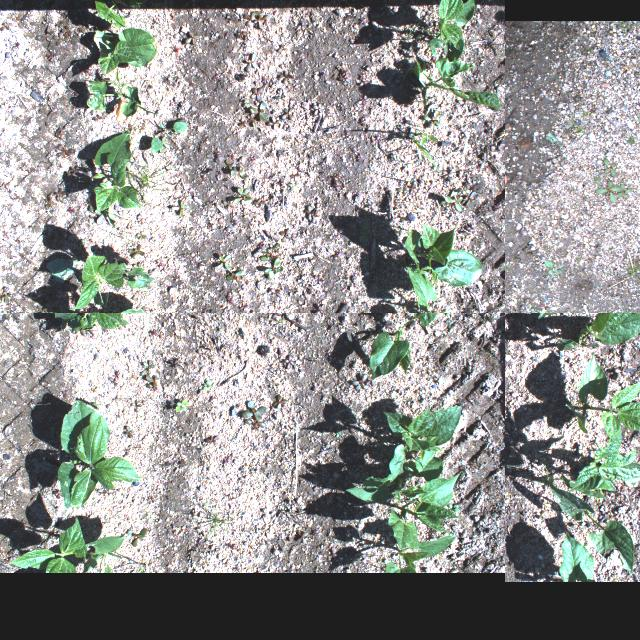crop: (56, 399, 142, 508), (548, 482, 634, 574), (564, 351, 640, 442), (386, 470, 462, 550), (559, 424, 640, 499), (382, 404, 460, 478), (90, 133, 146, 229), (404, 223, 482, 287), (367, 313, 440, 380), (410, 57, 500, 111), (68, 256, 154, 310), (344, 456, 444, 502), (423, 0, 474, 62), (556, 313, 640, 350), (92, 27, 156, 74), (384, 535, 458, 573), (86, 68, 140, 116), (61, 0, 146, 28), (404, 266, 451, 313), (558, 532, 596, 582), (53, 313, 129, 332), (82, 308, 145, 313), (418, 132, 436, 148), (104, 563, 112, 573)
weed: (7, 517, 124, 573), (127, 160, 177, 206), (194, 499, 232, 539), (150, 121, 187, 152), (596, 178, 632, 204), (412, 139, 438, 171), (124, 162, 148, 192), (595, 156, 621, 180), (238, 400, 266, 422), (538, 464, 564, 486), (247, 102, 269, 126), (98, 550, 120, 572), (544, 258, 564, 282), (124, 528, 148, 548), (108, 0, 125, 28), (406, 15, 424, 40), (623, 259, 640, 284), (264, 258, 282, 280), (439, 188, 459, 206), (351, 372, 369, 392), (546, 131, 564, 149), (444, 196, 464, 212), (232, 187, 252, 203), (243, 418, 265, 432), (214, 253, 232, 270), (422, 113, 441, 129), (250, 12, 268, 28), (155, 135, 171, 153), (89, 208, 105, 226), (566, 118, 584, 134), (271, 394, 289, 410), (243, 52, 257, 72), (170, 202, 190, 216), (224, 268, 243, 282), (133, 104, 157, 115), (460, 192, 476, 208), (242, 10, 258, 26), (248, 86, 264, 102), (126, 244, 144, 258), (230, 166, 247, 180), (183, 30, 200, 44), (144, 374, 158, 391), (266, 116, 282, 130), (51, 32, 67, 46), (282, 353, 296, 369), (280, 107, 294, 121), (278, 70, 292, 84), (294, 530, 308, 544), (143, 374, 157, 388), (60, 24, 72, 40), (94, 74, 110, 86), (505, 260, 517, 276), (71, 324, 87, 336), (140, 360, 158, 370), (327, 546, 338, 562), (0, 286, 10, 303), (458, 96, 472, 108), (278, 229, 290, 243), (56, 145, 70, 157), (68, 165, 82, 177), (54, 188, 66, 202), (446, 503, 460, 515), (6, 548, 18, 562), (258, 254, 278, 262), (205, 434, 221, 444), (124, 424, 134, 440), (50, 489, 66, 499), (441, 170, 454, 182), (175, 400, 188, 412), (332, 176, 341, 192), (364, 375, 376, 387), (130, 400, 142, 412), (396, 186, 410, 196), (268, 288, 282, 298), (86, 198, 95, 212), (406, 182, 416, 194), (400, 97, 412, 107), (269, 242, 279, 254), (276, 42, 288, 52), (223, 159, 233, 171), (222, 200, 234, 210), (56, 128, 66, 140), (526, 305, 541, 313), (201, 379, 211, 391), (139, 364, 149, 376), (310, 210, 318, 224), (132, 263, 140, 277), (304, 204, 310, 222), (146, 328, 158, 337), (241, 30, 251, 40), (225, 295, 235, 305), (154, 258, 164, 268), (618, 308, 638, 313), (108, 376, 118, 386), (60, 388, 70, 398), (0, 21, 11, 30), (271, 267, 283, 275), (252, 199, 264, 207), (35, 305, 47, 313), (408, 134, 417, 144), (359, 94, 368, 104), (256, 244, 266, 253), (0, 181, 10, 190), (68, 458, 82, 464), (95, 488, 109, 494), (339, 74, 349, 82), (286, 233, 296, 241), (234, 30, 242, 40), (210, 72, 220, 80), (136, 232, 146, 240), (77, 29, 87, 37), (42, 18, 50, 28), (91, 113, 101, 121), (44, 198, 52, 208), (0, 71, 6, 84), (0, 150, 5, 165), (10, 41, 18, 50), (140, 284, 152, 290), (227, 542, 236, 550), (237, 120, 245, 128), (66, 206, 74, 214), (264, 248, 270, 258), (238, 304, 248, 310), (270, 313, 280, 319), (262, 418, 272, 424), (505, 490, 509, 505), (46, 308, 57, 313), (112, 372, 118, 381), (288, 183, 294, 191), (140, 564, 146, 572), (78, 240, 84, 247), (288, 174, 298, 178), (462, 189, 468, 195), (245, 99, 249, 108), (278, 316, 284, 322), (122, 452, 128, 458), (128, 124, 132, 132), (444, 313, 453, 316), (218, 325, 222, 331), (250, 311, 260, 313)
